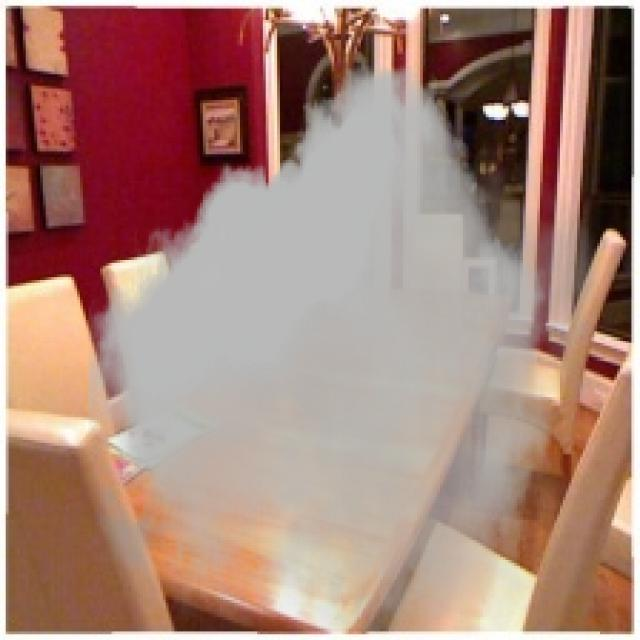smoke: (80, 66, 611, 631)
